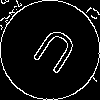U: (25, 25, 81, 83)
